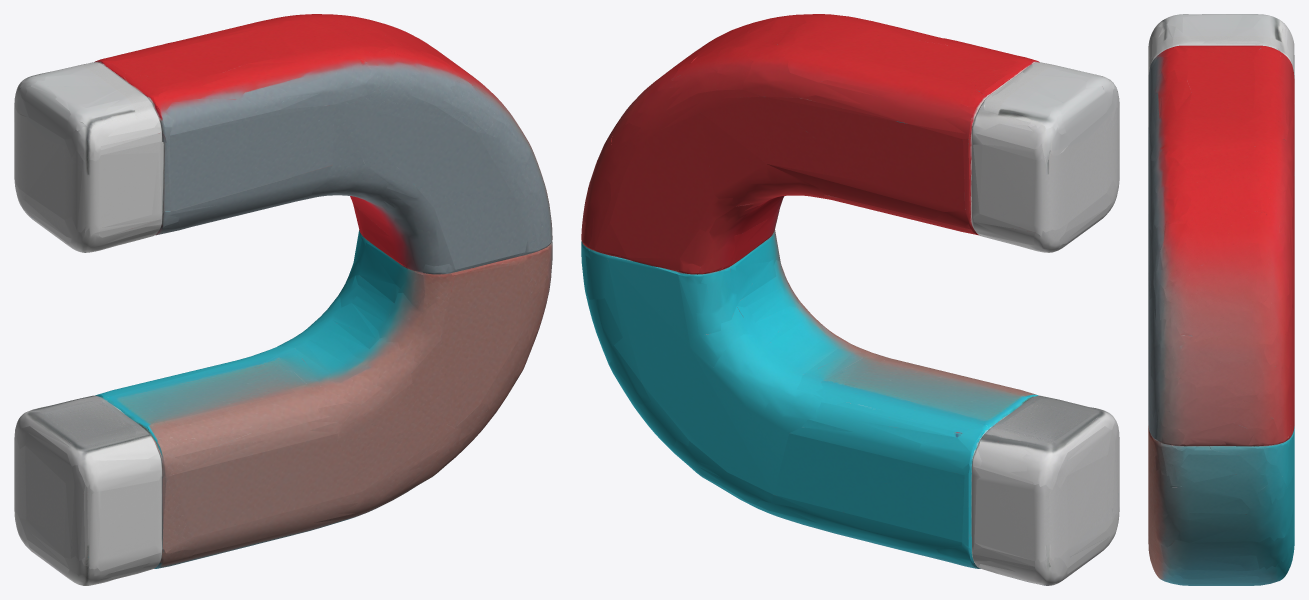
The model's file is magnet.glb.
3 renders of one model, left to right at view 1: azimuth 30°, elevation 25°; view 2: azimuth 150°, elevation 25°; view 3: azimuth 270°, elevation 25°, orthographic. The views are drawn at different scales.
Visible parts, largest first — view 1: mesh_node; view 2: mesh_node; view 3: mesh_node.
Part boxes in pixels (x1=…): mesh_node: x1=14, y1=14, x2=552, y2=585; mesh_node: x1=581, y1=14, x2=1119, y2=585; mesh_node: x1=1148, y1=14, x2=1294, y2=585.
Bounding box in the file's own units: 1.9 × 1.79 × 0.5396.
Materials: 1 (1 with a texture image).
